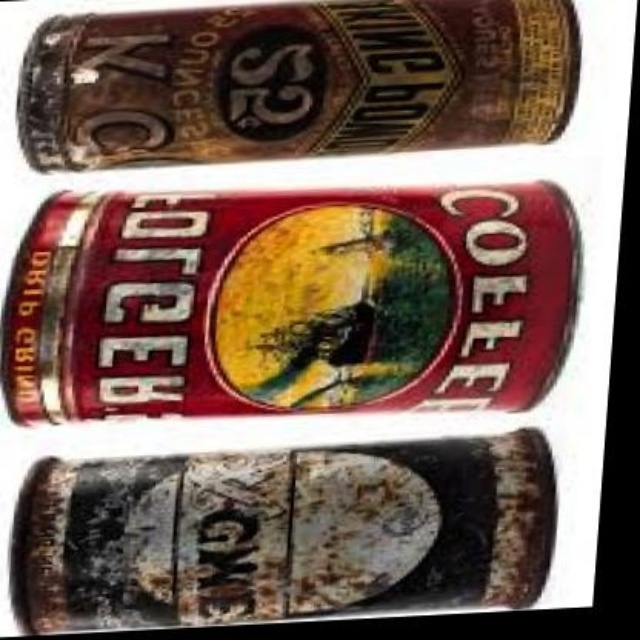trash: (2, 182, 577, 422), (12, 429, 554, 631), (17, 0, 578, 169)
